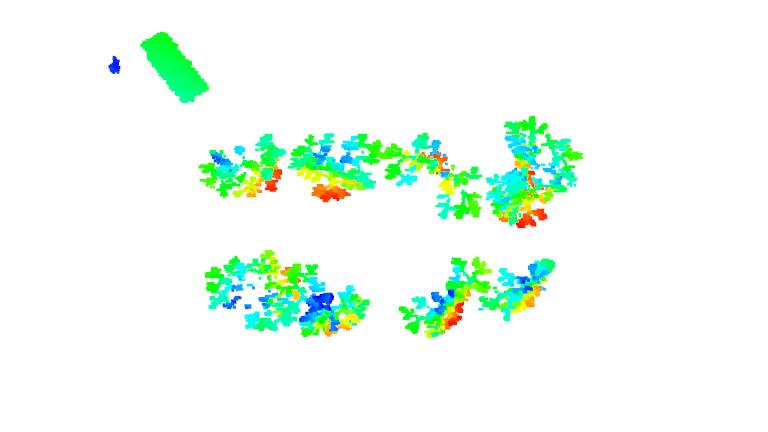chickpea: (486, 95, 587, 229), (382, 132, 485, 225), (199, 251, 296, 335), (401, 252, 492, 340), (296, 255, 376, 347), (290, 130, 379, 204), (194, 130, 288, 196), (499, 257, 557, 325)
